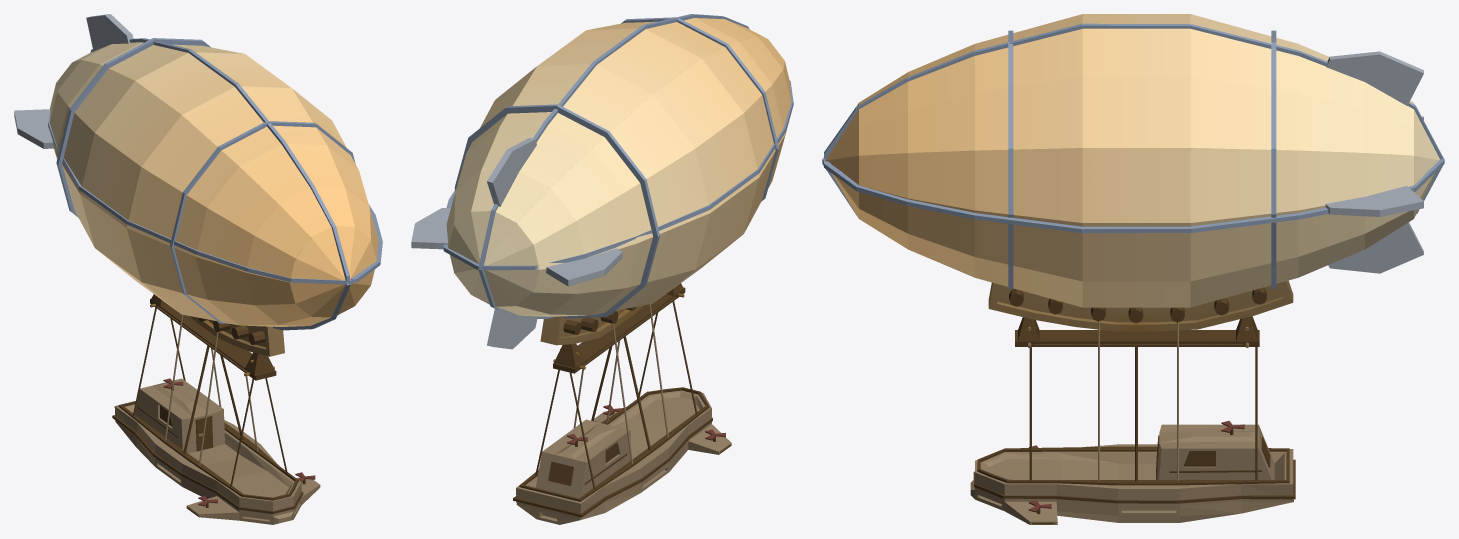
File: CUPIC_AIRSHIP.obj
3 renders of one model, left to right at view 1: azimuth 30°, elevation 25°; view 2: azimuth 150°, elevation 25°; view 3: azimuth 270°, elevation 25°, orthographic. The views are drawn at different scales.
Bounding box in the file's own units: 195 × 353 × 404.
1 material, 1 textured.
